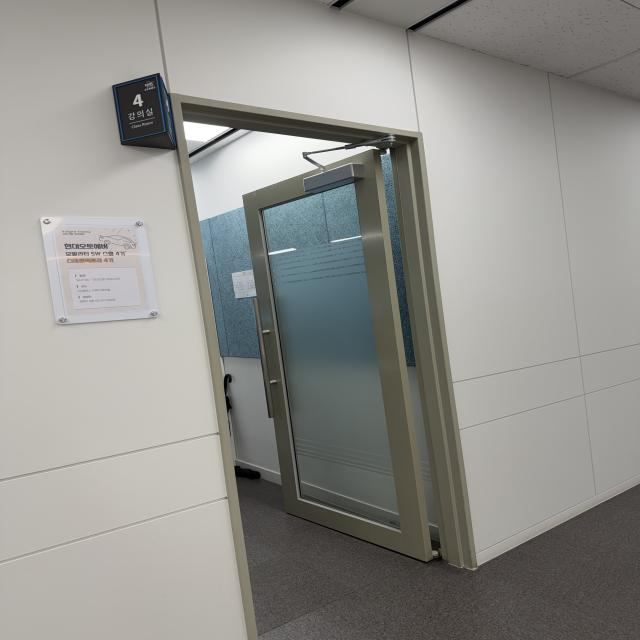sign: (113, 74, 175, 149)
